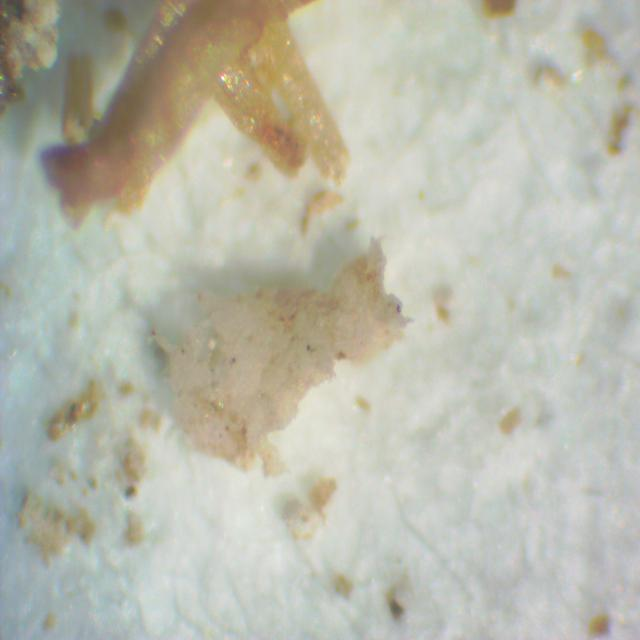microplastic: (166, 244, 407, 469)
